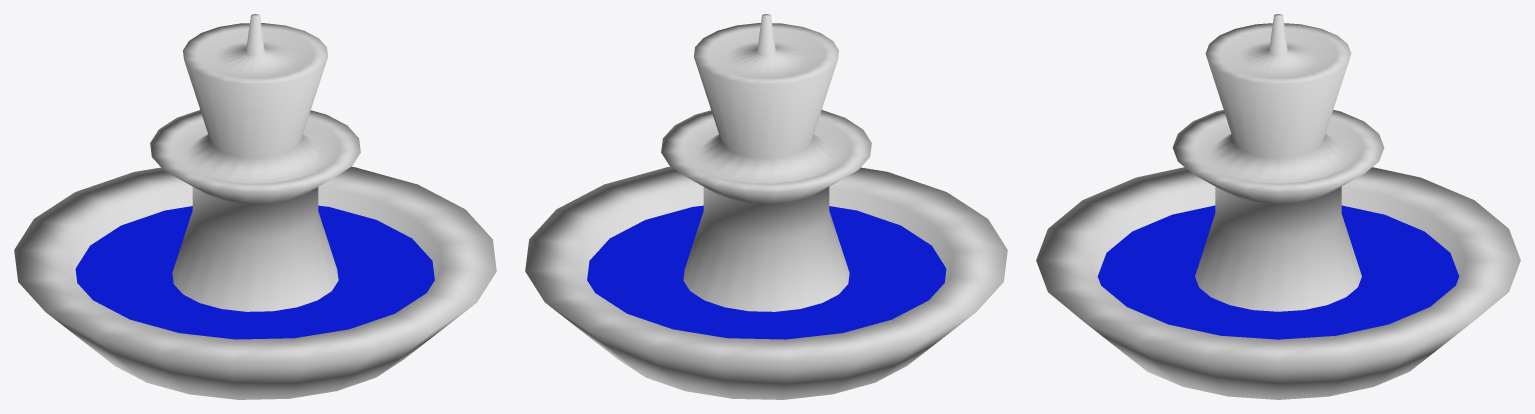
The model's file is Fountain.fbx.
3 renders of one model, left to right at view 1: azimuth 30°, elevation 25°; view 2: azimuth 150°, elevation 25°; view 3: azimuth 270°, elevation 25°, orthographic.
Parts seen in each view (by area): view 1: Fountain; view 2: Fountain; view 3: Fountain.
Part boxes in pixels (left/top/right/bottom): Fountain: left=14, top=14, right=496, bottom=399; Fountain: left=525, top=14, right=1007, bottom=399; Fountain: left=1036, top=14, right=1520, bottom=399.
Bounding box in the file's own units: 2.84 × 2.04 × 2.84.
